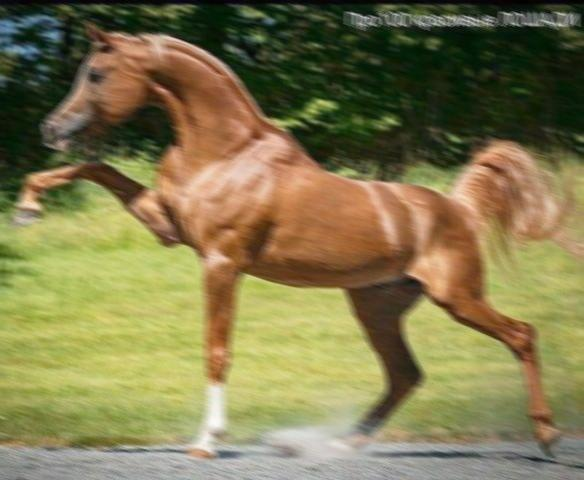horse: (12, 19, 584, 461)
